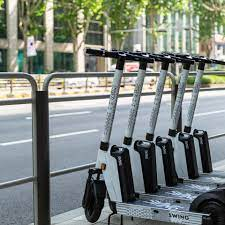kick_handler: (88, 49, 155, 65), (193, 55, 224, 71)
kick_wheel: (82, 180, 102, 223)
